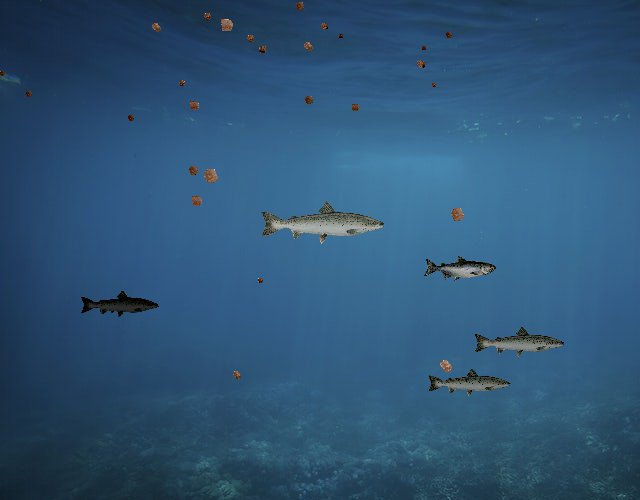Fish: (258, 199, 387, 245), (473, 326, 567, 360), (426, 367, 512, 398), (80, 290, 161, 319), (423, 256, 496, 282), (99, 300, 146, 316)
Pellet: (196, 160, 226, 190), (432, 352, 459, 379), (185, 190, 208, 213), (228, 366, 245, 384), (174, 76, 189, 91), (124, 111, 138, 125), (254, 274, 266, 286)
